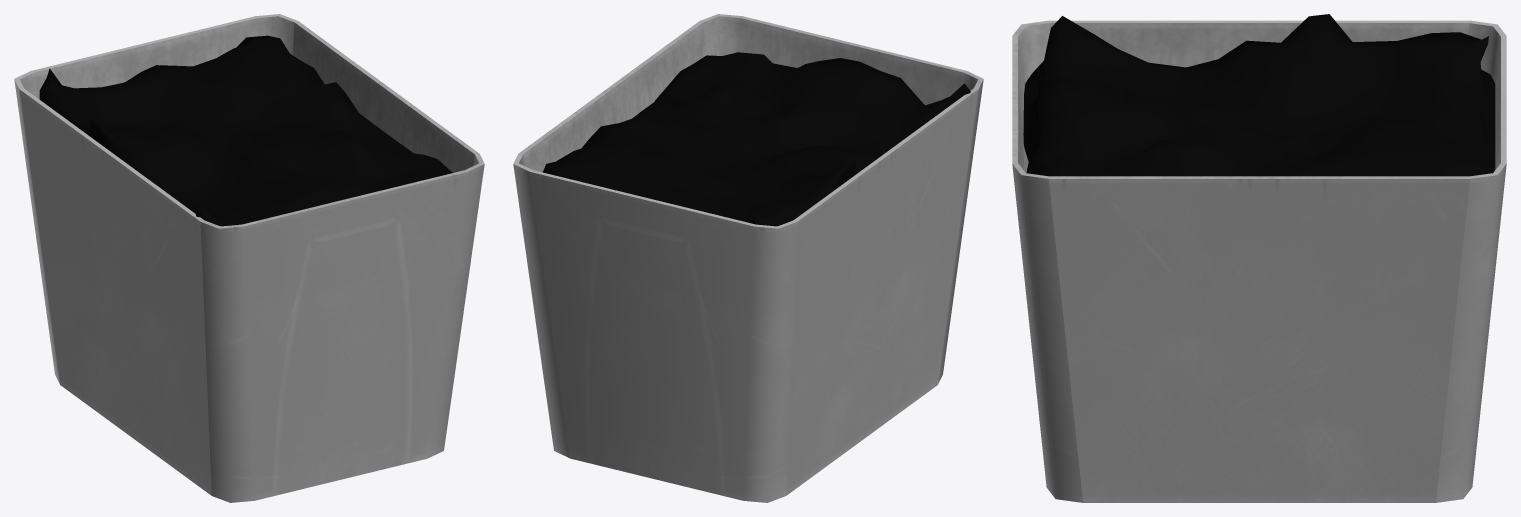
The model's file is GarageBoxFilled.FBX.
The picture shows the model from 3 angles, left to right: view 1: azimuth 30°, elevation 25°; view 2: azimuth 150°, elevation 25°; view 3: azimuth 270°, elevation 25°; orthographic projection. The views are drawn at different scales.
Parts seen in each view (by area): view 1: GarageBoxFilled_LOD0; view 2: GarageBoxFilled_LOD0; view 3: GarageBoxFilled_LOD0.
Boxes of the visible parts, <box> form: GarageBoxFilled_LOD0: <box>14,14,484,502</box>; GarageBoxFilled_LOD0: <box>513,14,983,502</box>; GarageBoxFilled_LOD0: <box>1012,14,1506,502</box>.
Size of what is drawn, in the model's own units: 35.08 by 36.34 by 46.31.
